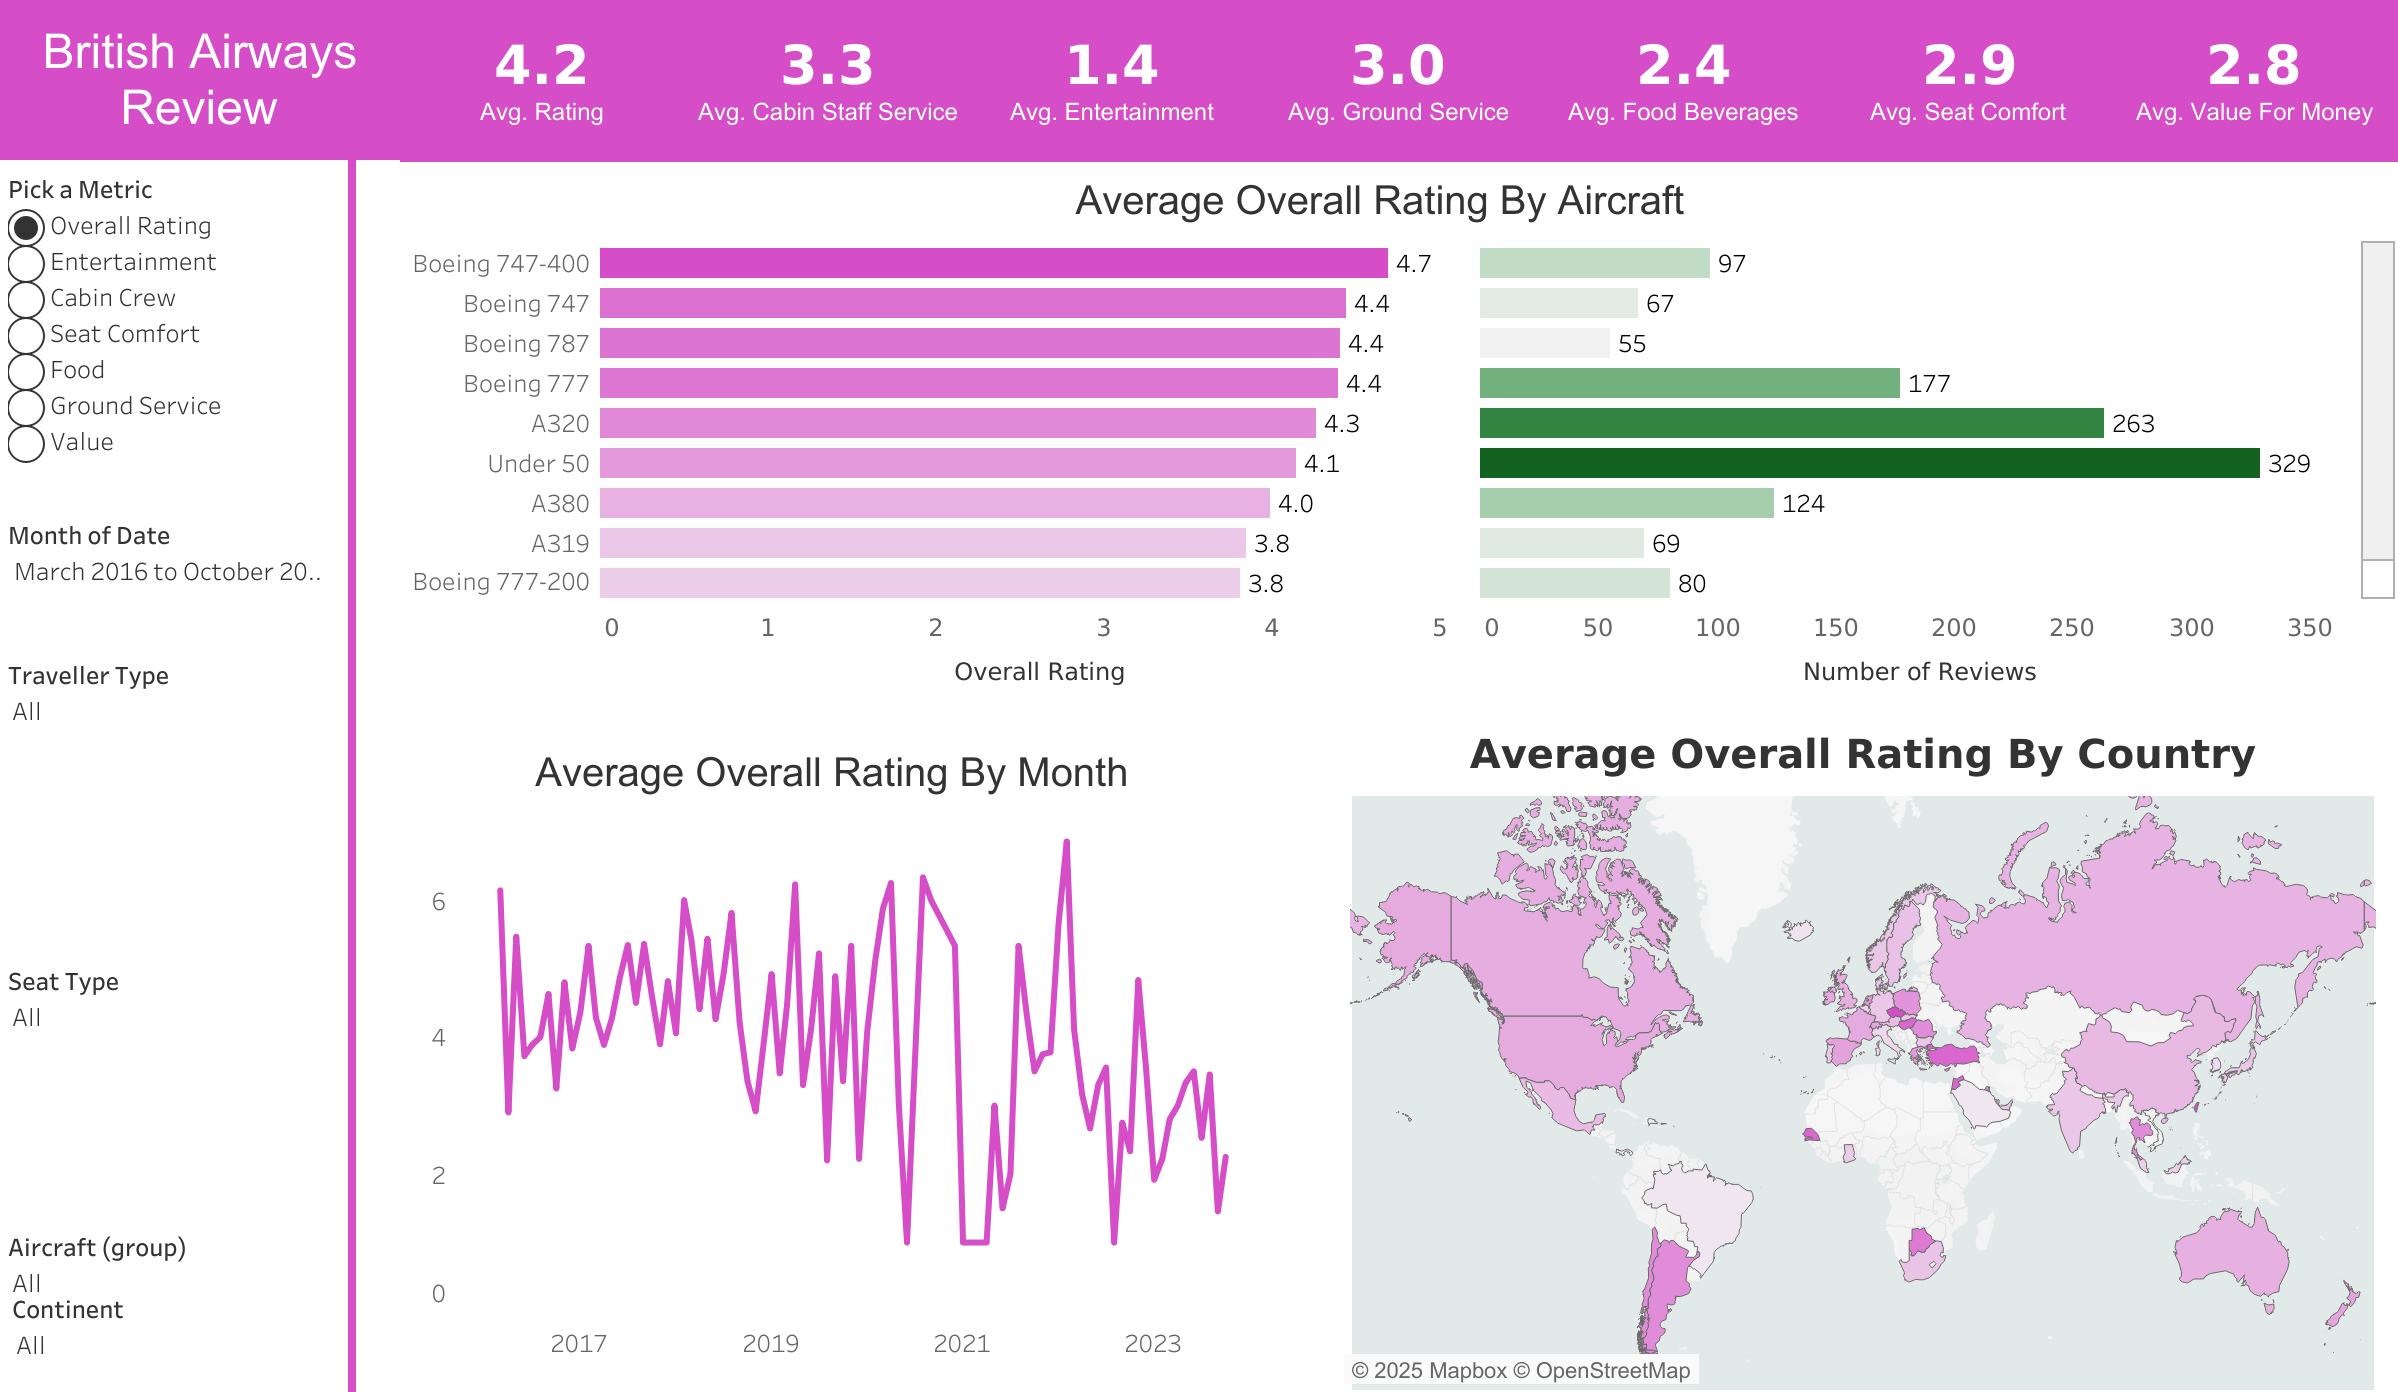

This screenshot's page, from the dashboard's own definition file:
{"tool":"tableau","page":{"name":"Dashboard 1","canvas":[1000,1000],"units":"permille","ordinal":0},"visuals":[{"type":"text","box":[0,0,166.7,114.3]},{"type":"worksheet","title":"Summary","mark":"Automatic","box":[166.7,0,833.3,114.3]},{"type":"parameter","param":"[Parameters].[Parameter 1]","box":[0,114.3,141.7,235.7]},{"type":"blank","box":[145,114.3,3.3,885.7]},{"type":"worksheet","title":"Aircraft","mark":"Automatic","cols":["Calculation_1297318200891277312","ba_reviews.csv_8B72FBF35D1E4140AEDF5DCECE813527"],"box":[166.7,117.1,832.5,385.7]},{"type":"filter","title":"Map","param":"[federated.12zlbtw0be69au11iqy9t14rfbmd].[tmn:date:qk]","box":[0,350,141.7,98.6]},{"type":"filter","title":"Map","param":"[federated.12zlbtw0be69au11iqy9t14rfbmd].[none:traveller_type:nk]","box":[0,448.6,141.7,208.6]},{"type":"worksheet","title":"Map","mark":"Automatic","box":[556.7,515.7,439.2,481.4]},{"type":"worksheet","title":"Month","mark":"Automatic","rows":["Calculation_1297318200891277312"],"cols":["date"],"box":[166.7,528.6,360,454.3]},{"type":"filter","title":"Map","param":"[federated.12zlbtw0be69au11iqy9t14rfbmd].[none:seat_type:nk]","box":[0,657.1,141.7,181.4]},{"type":"filter","title":"Map","param":"[federated.12zlbtw0be69au11iqy9t14rfbmd].[Aircraft (group)]","box":[0,838.6,141.7,74.3]},{"type":"filter","title":"Map","param":"[federated.12zlbtw0be69au11iqy9t14rfbmd].[none:Continent:nk]","box":[5,924.3,133.3,62.9]}]}

Visuals, with their boxes on the dashboard's canvas, which has no fixed pixel size, in thousandths of its width and height (x1, y1, x2, y2). These are canvas units, not pixel positions in the 2398x1392 screenshot, which may show the page scaled, cropped or inside an application window:
text: x1=0, y1=0, x2=167, y2=114
"Summary" worksheet: x1=167, y1=0, x2=1000, y2=114
parameter: x1=0, y1=114, x2=142, y2=350
blank: x1=145, y1=114, x2=148, y2=1000
"Aircraft" worksheet: x1=167, y1=117, x2=999, y2=503
"Map" filter: x1=0, y1=350, x2=142, y2=449
"Map" filter: x1=0, y1=449, x2=142, y2=657
"Map" worksheet: x1=557, y1=516, x2=996, y2=997
"Month" worksheet: x1=167, y1=529, x2=527, y2=983
"Map" filter: x1=0, y1=657, x2=142, y2=838
"Map" filter: x1=0, y1=839, x2=142, y2=913
"Map" filter: x1=5, y1=924, x2=138, y2=987
